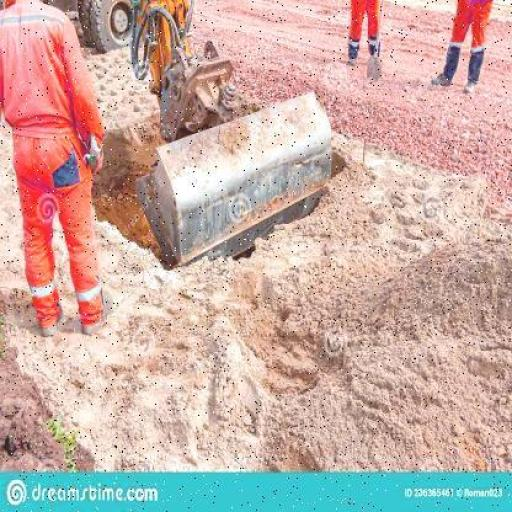person: (0, 0, 103, 351)
safety_shoe: (82, 293, 112, 338), (44, 299, 60, 343), (430, 70, 456, 89), (463, 81, 480, 96), (346, 56, 358, 67)
